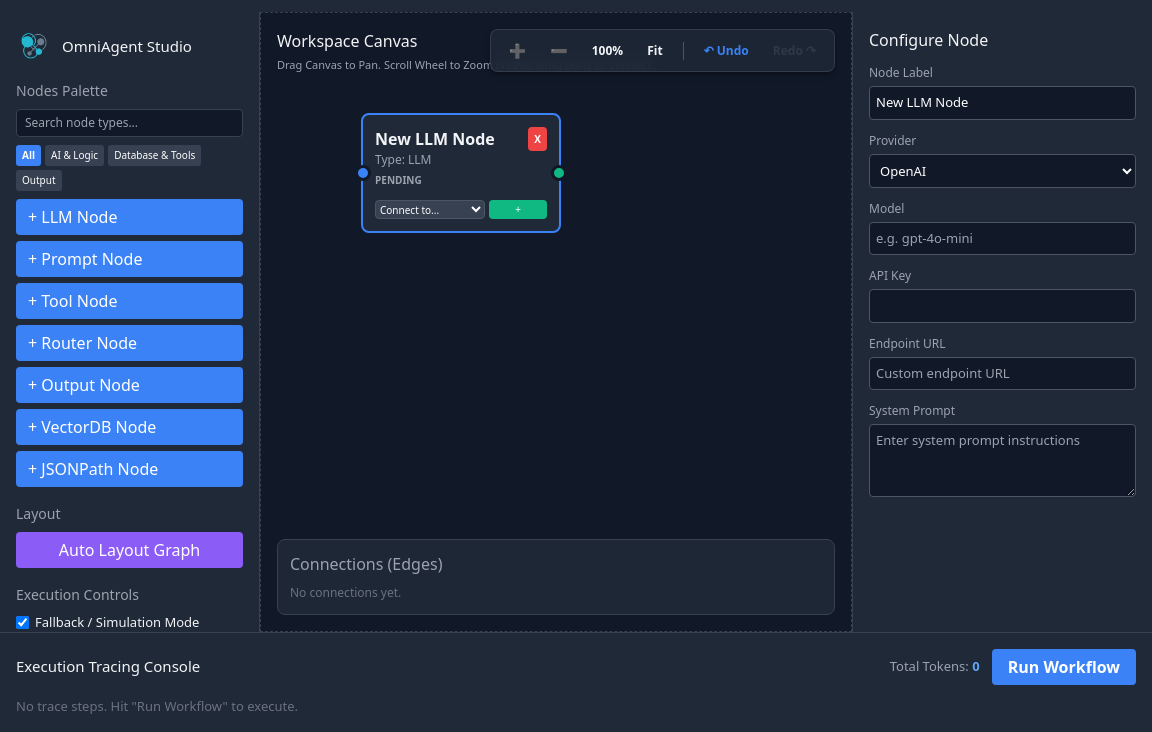
Test: Tier 1: Feature Coverage › updates node label in state when edited
Step 1. Replace the text in the field with test id "config-label-input" with "My Special LLM" → (1002,103), box 869,86 -> 1136,120
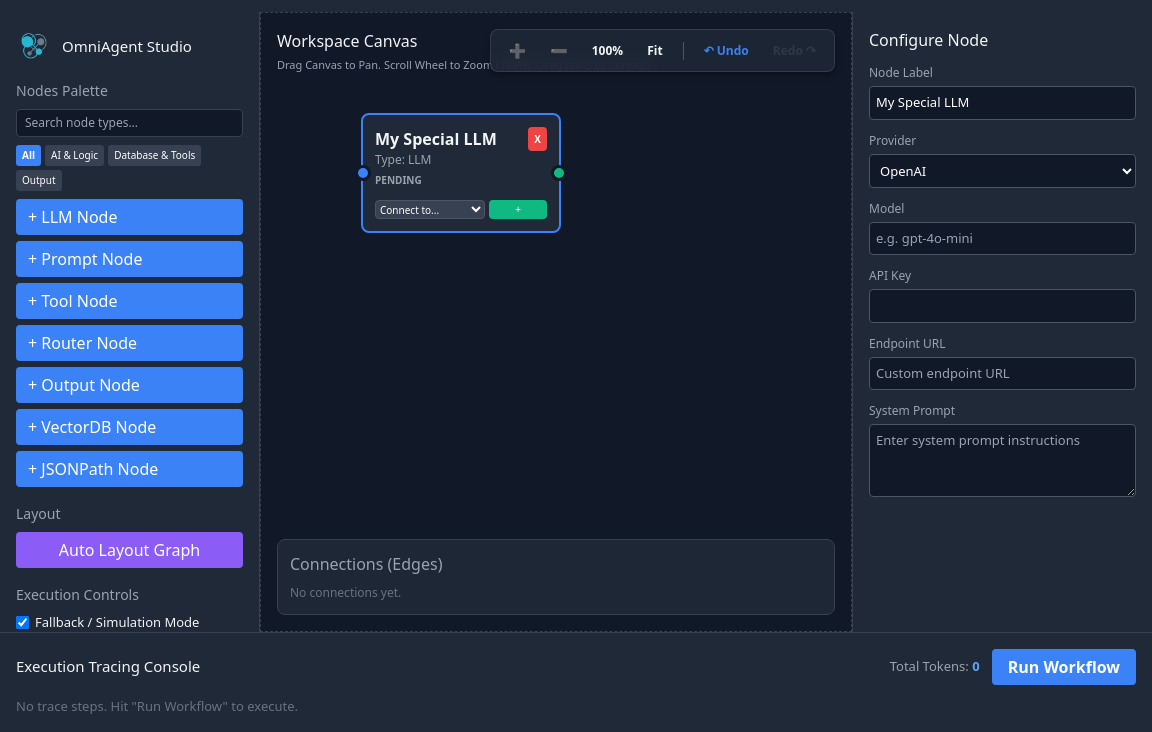
Expected: the text "My Special LLM" is shown, 375,127 -> 497,151
